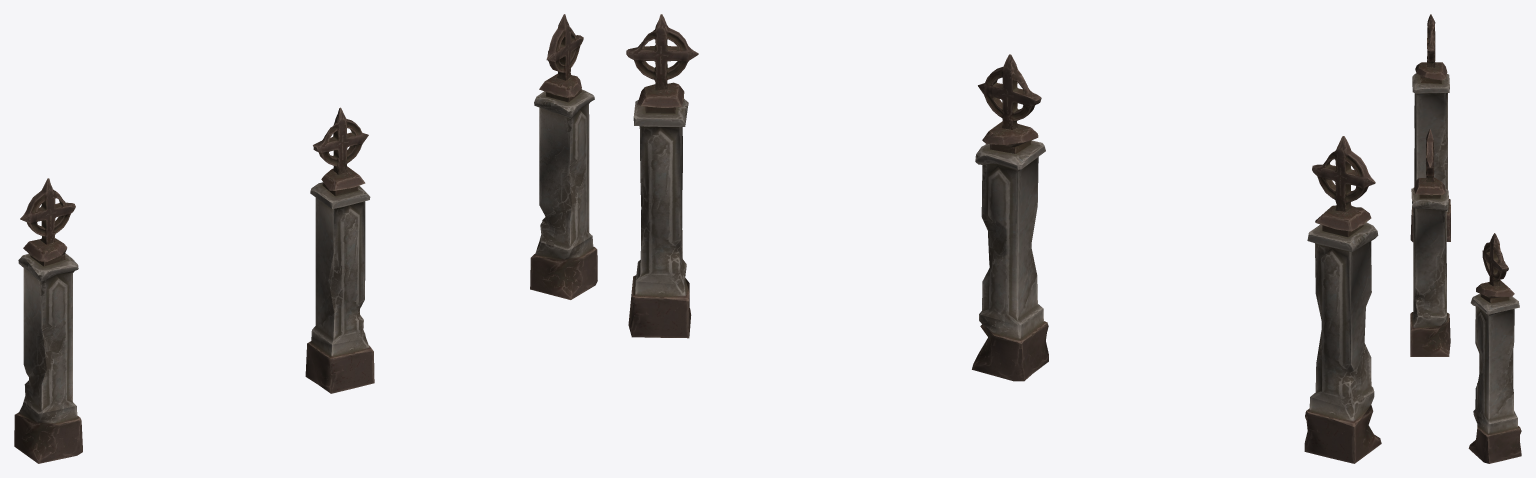
The model's file is sample.glb.
The picture shows the model from 3 angles, left to right: view 1: azimuth 30°, elevation 25°; view 2: azimuth 150°, elevation 25°; view 3: azimuth 270°, elevation 25°; orthographic projection. The views are drawn at different scales.
Visible parts, largest first — view 1: zabor_column, zabor_column.001, zabor_column.002; view 2: zabor_column.001, zabor_column, zabor_column.002; view 3: zabor_column.002, zabor_column, zabor_column.001.
Boxes of the visible parts, bbox=[...] form: zabor_column: bbox=[305, 107, 374, 393]; zabor_column.001: bbox=[14, 178, 82, 463]; zabor_column.002: bbox=[530, 14, 597, 299]; zabor_column.001: bbox=[1304, 136, 1381, 463]; zabor_column: bbox=[972, 54, 1048, 381]; zabor_column.002: bbox=[626, 14, 698, 338]; zabor_column.002: bbox=[1468, 233, 1521, 463]; zabor_column: bbox=[1410, 129, 1450, 356]; zabor_column.001: bbox=[1410, 14, 1450, 241].
Size of the model in its own units: 730 by 310 by 142.
1 material, 1 textured.
